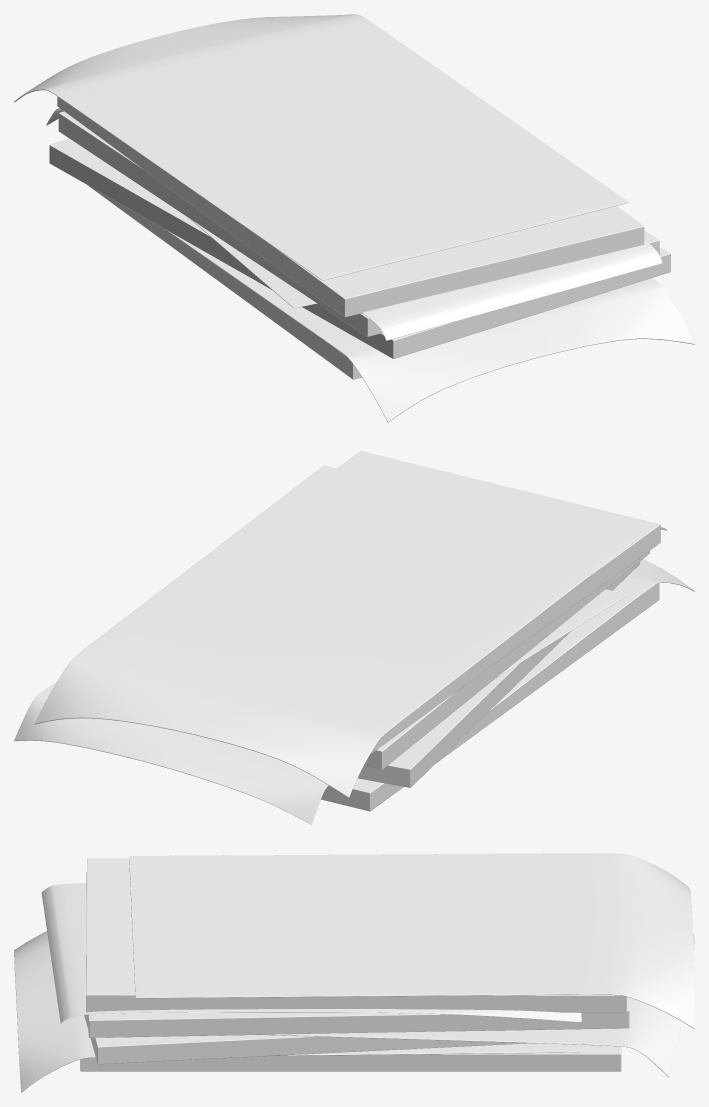
File: paper_stack.glb
3 views of the same model, one above another, from view 1: azimuth 30°, elevation 25°; view 2: azimuth 150°, elevation 25°; view 3: azimuth 270°, elevation 25° (orthographic). The views are drawn at different scales.
Visible parts, largest first — view 1: polySurface12, polySurface22, polySurface11, polySurface9, polySurface14, polySurface13, polySurface21, polySurface8; view 2: polySurface12, polySurface8, polySurface11, polySurface9, polySurface21, polySurface13, polySurface22; view 3: polySurface12, polySurface11, polySurface13, polySurface21, polySurface22, polySurface14, polySurface9, polySurface8.
Part boxes in pixels (box(x1,y1,x2,y2)): polySurface12: box(14, 14, 628, 280); polySurface22: box(165, 229, 694, 422); polySurface11: box(57, 96, 644, 317); polySurface9: box(49, 138, 670, 358); polySurface14: box(362, 239, 662, 340); polySurface13: box(58, 111, 659, 336); polySurface21: box(87, 185, 361, 379); polySurface8: box(46, 108, 316, 308); polySurface12: box(34, 465, 637, 797); polySurface8: box(14, 589, 626, 824); polySurface11: box(337, 451, 660, 753); polySurface9: box(358, 562, 639, 787); polySurface21: box(321, 583, 659, 811); polySurface13: box(364, 551, 649, 769); polySurface22: box(488, 559, 694, 712); polySurface12: box(129, 853, 694, 1028); polySurface11: box(86, 858, 626, 1012); polySurface13: box(86, 997, 629, 1037); polySurface21: box(80, 1044, 621, 1071); polySurface22: box(14, 931, 580, 1092); polySurface14: box(41, 883, 581, 1023); polySurface9: box(84, 1014, 530, 1064); polySurface8: box(264, 934, 694, 1077).
Bounding box in the file's own units: 21.42 × 5.68 × 37.68.
Materials: 1 (1 with a texture image).
